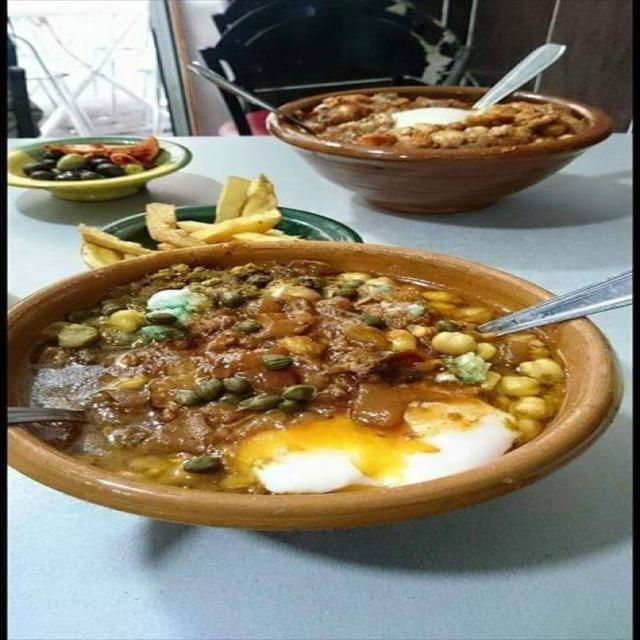Lablabi: (0, 250, 572, 536), (303, 73, 619, 211)
